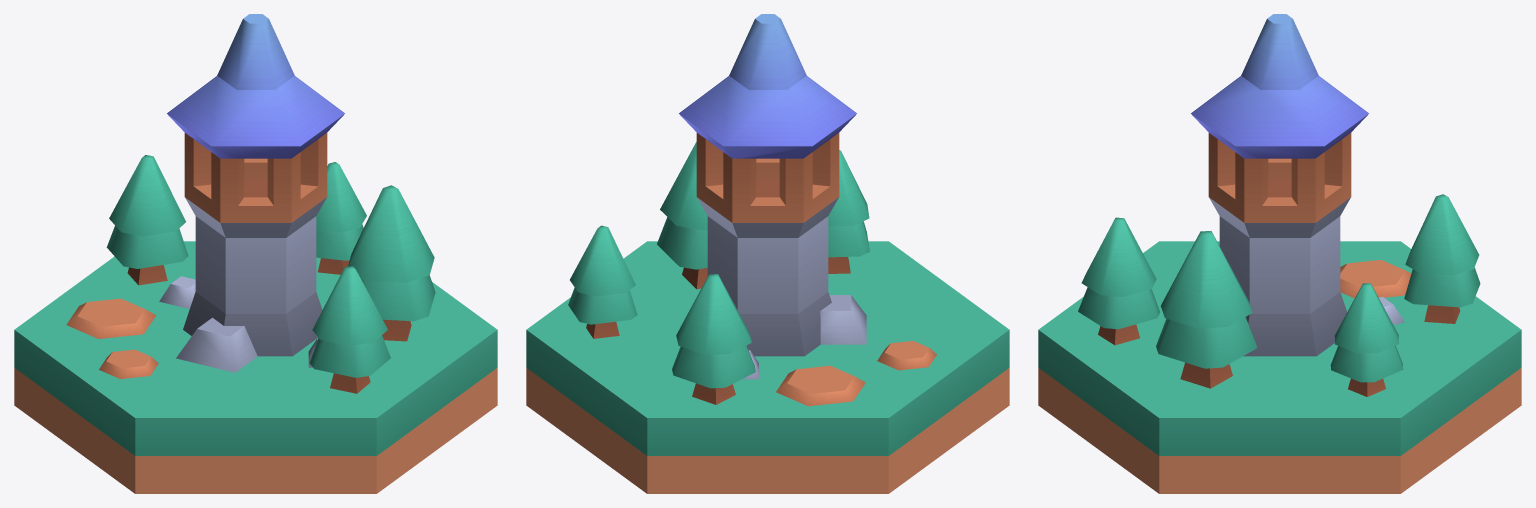
File: building-tower.gltf
3 views of the same model, side by side, from view 1: azimuth 30°, elevation 25°; view 2: azimuth 150°, elevation 25°; view 3: azimuth 270°, elevation 25° (orthographic).
Parts seen in each view (by area): view 1: building_tower; view 2: building_tower; view 3: building_tower.
Part boxes in pixels (box(x1,y1,x2,y2)): building_tower: box(14, 14, 497, 493); building_tower: box(526, 14, 1009, 493); building_tower: box(1038, 14, 1521, 493).
Size of the model in its own units: 1 by 1.02 by 1.15.
Materials: 1 (1 with a texture image).
